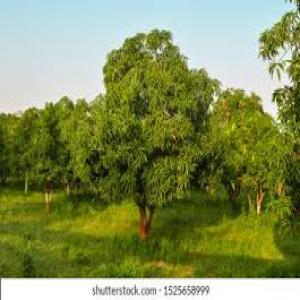Tree: (97, 24, 206, 237), (205, 84, 285, 216)
